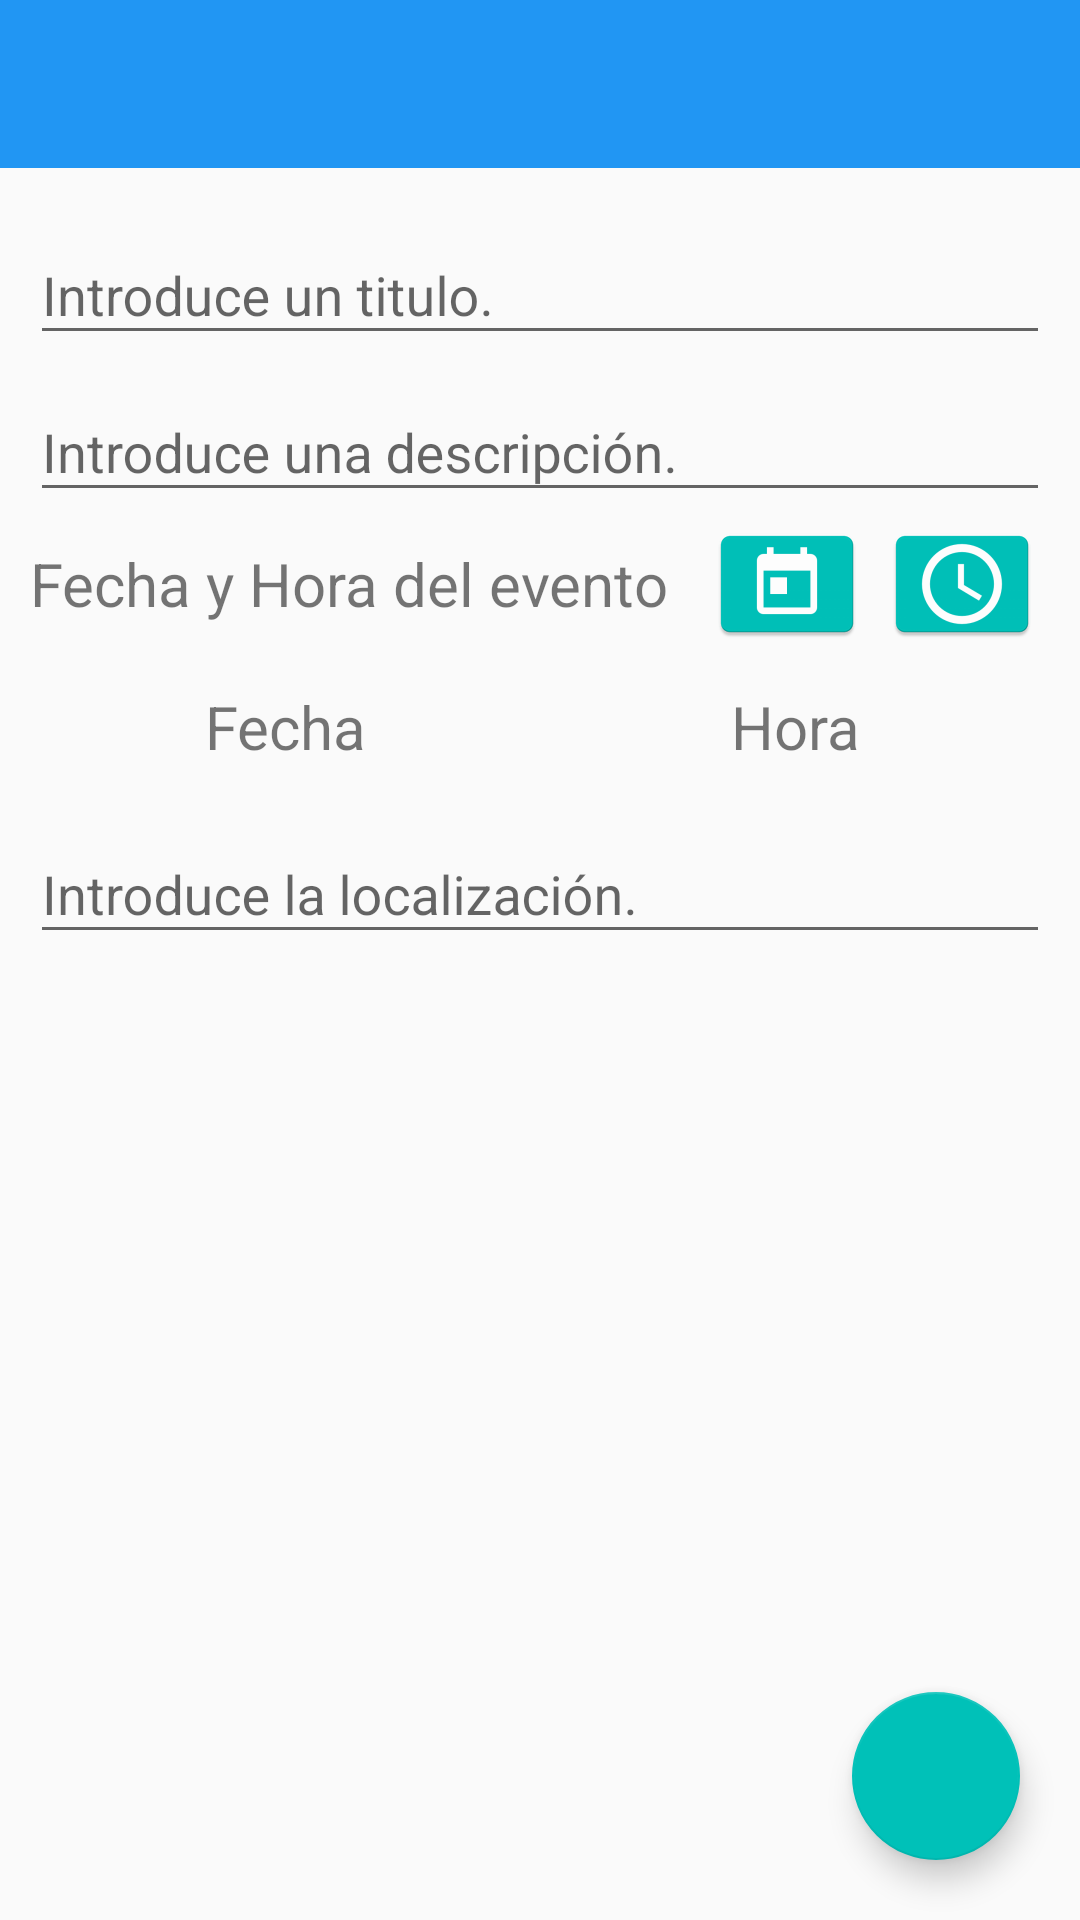

Where to tap for icons on this 1080px×1920px app screen, as [x,y]:
clock: [962,585]
date: [787,585]
